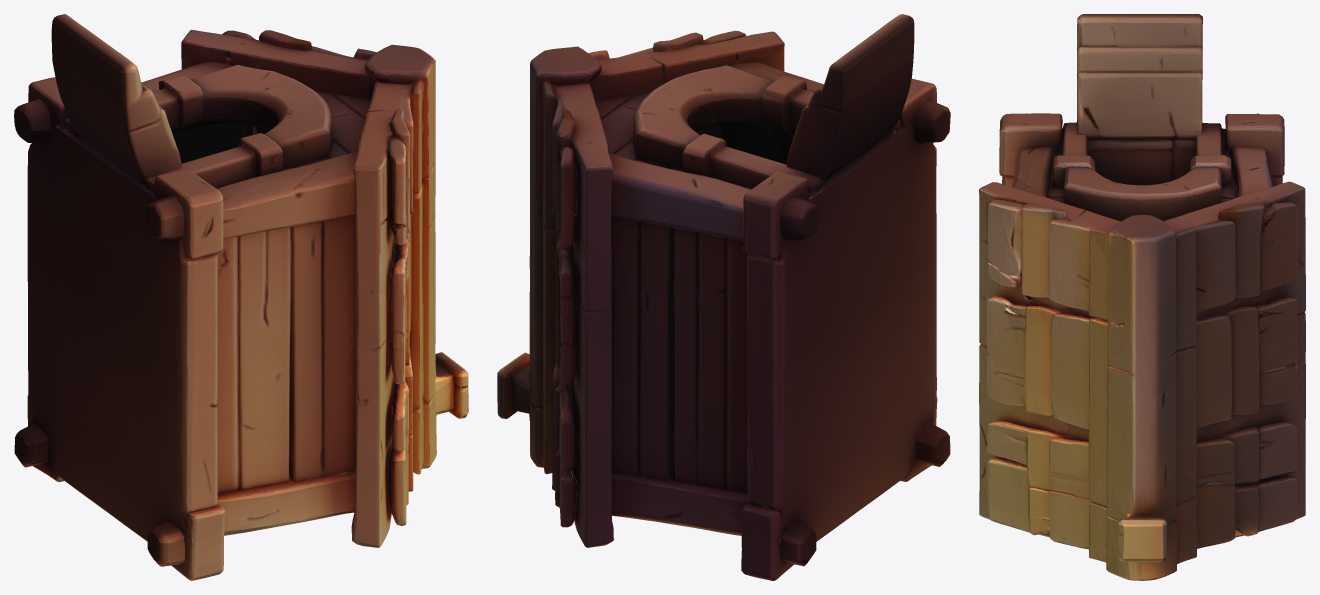
Rendered from chicken_coop_comfyui.glb.
The picture shows the model from 3 angles, left to right: view 1: azimuth 30°, elevation 25°; view 2: azimuth 150°, elevation 25°; view 3: azimuth 270°, elevation 25°; orthographic projection. The views are drawn at different scales.
Size of the model in its own units: 0.7922 by 1 by 0.6988.
1 material, 1 textured.
